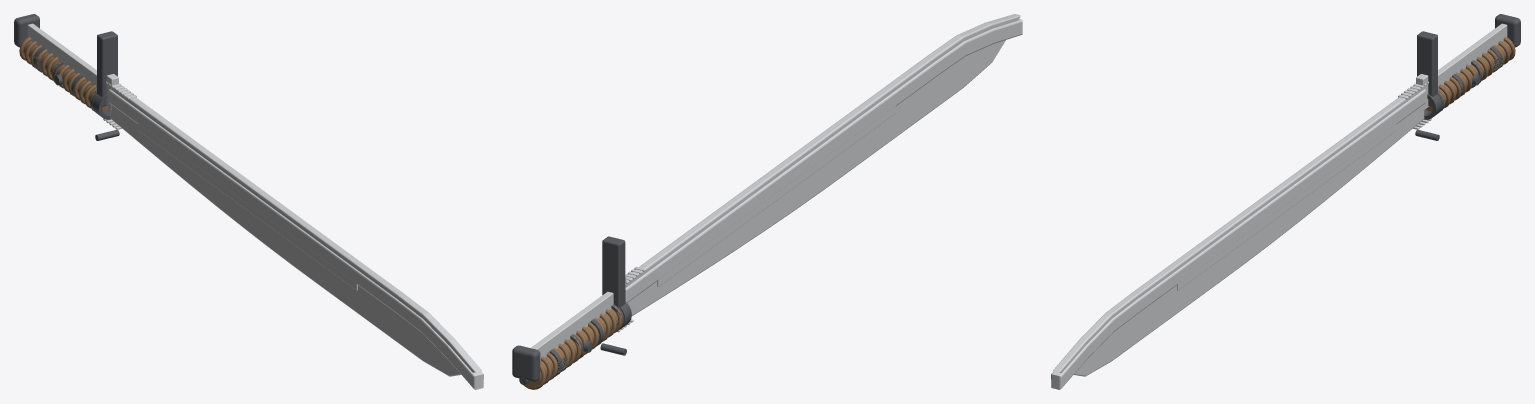
Rendered from sword-3.glb.
3 renders of one model, left to right at view 1: azimuth 30°, elevation 25°; view 2: azimuth 150°, elevation 25°; view 3: azimuth 330°, elevation 25°, orthographic. The views are drawn at different scales.
Parts seen in each view (by area): view 1: straight-sword; view 2: straight-sword; view 3: straight-sword.
Boxes of the visible parts, x1=… form: straight-sword: x1=14, y1=14, x2=483, y2=389; straight-sword: x1=512, y1=14, x2=1022, y2=389; straight-sword: x1=1051, y1=14, x2=1520, y2=389.
Bounding box in the file's own units: 0.0352 × 0.1132 × 0.9009.
